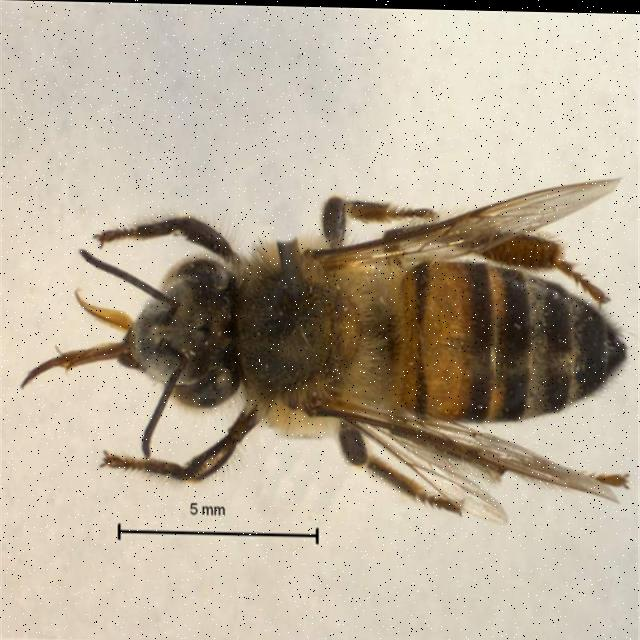Apis-mellifera-scutellata: (13, 138, 640, 540)
